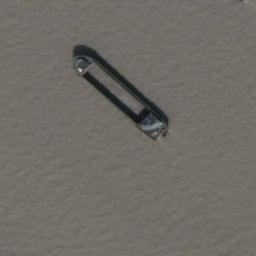boat: (68, 50, 168, 140)
